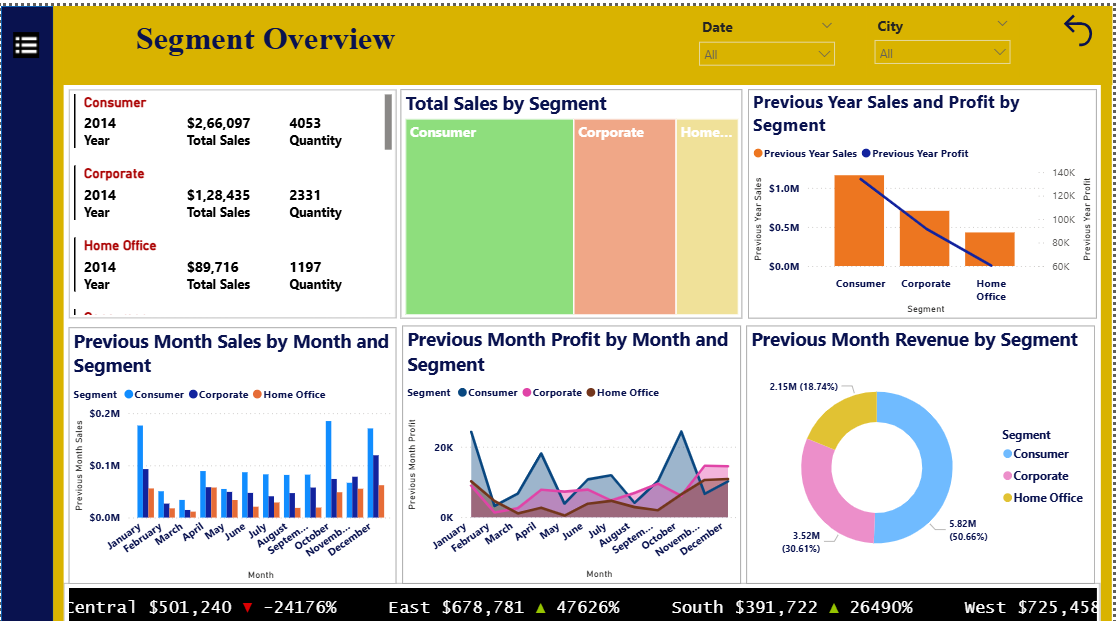

Layout of this report page (visuals, bound fields, positions):
{"tool":"powerbi","page":{"name":"Segment","canvas":[1280,720],"ordinal":1},"visuals":[{"type":"ScrollingTextVisual1448795304508","fields":{"Category":["Sales_Data.Region"],"Measure Absolute":["Sum(Sales_Data.Sales)"],"Measure Deviation":["Sum(Sales_Data.Profit/Loss)"]},"box":[72.6,664.5,1193.2,55.2],"z":1000},{"type":"shape","title":"Header","box":[60.7,0,1219.3,91],"z":2000},{"type":"actionButton","title":"Hamburger  Menu","box":[10.6,25.8,37.9,37.9],"z":2000,"group":"g1"},{"type":"shape","title":"Navyblue","box":[0,0,60.7,720],"z":3000},{"type":"shape","title":"Yello","box":[60.7,0,12.1,720],"z":4000},{"type":"textbox","box":[150.1,10.6,364,65.2],"z":7000},{"type":"areaChart","fields":{"Y":["All Measures.Previous Month Profit"],"Series":["Sales_Data.Segment"],"Category":["Calender.Date.Variation.Date Hierarchy.Month"]},"box":[462.4,367.7,389.8,296.7],"z":8000},{"type":"clusteredColumnChart","fields":{"Category":["Calender.Date.Variation.Date Hierarchy.Month"],"Y":["All Measures.Previous Month Sales"],"Series":["Sales_Data.Segment"]},"box":[77.3,369.3,377.2,295.1],"z":9000},{"type":"donutChart","fields":{"Y":["All Measures.Previous Month Revenue"],"Category":["Sales_Data.Segment"]},"box":[858.6,367.7,400.9,296.7],"z":10000},{"type":"multiRowCard","fields":{"Values":["Calender.Year","Sales_Data.Segment","All Measures.Total Sales","Sum(Sales_Data.Quantity)"]},"box":[77.3,96.3,377.2,263.6],"z":11000},{"type":"treemap","fields":{"Group":["Sales_Data.Segment"],"Values":["All Measures.Total Sales"]},"box":[460.9,96.3,393,263.6],"z":12000},{"type":"lineClusteredColumnComboChart","title":"Previous Year Sales and Profit by Segment","fields":{"Category":["Sales_Data.Segment"],"Y":["All Measures.Previous Year Sales"],"Y2":["All Measures.Previous Year Profit"]},"box":[860.2,96.3,400.9,263.6],"z":13000},{"type":"shape","box":[1265.8,90,12.6,628.2],"z":14000},{"type":"actionButton","title":"Reset","box":[1216.8,3.4,63.2,47.9],"z":15000},{"type":"slicer","fields":{"Values":["Sales_Data.City"]},"box":[996.4,6.1,175.9,75.8],"z":16000},{"type":"slicer","fields":{"Values":["Calender.Date"]},"box":[793.2,7.6,175.9,75.8],"z":16500},{"type":"group","id":"g1","title":"Menu Bar","box":[10.6,25.8,37.9,37.9],"z":16750}]}

Visuals, with their boxes in screenshot pixels (x1, y1, x2, y2), scaled from the page's 1280x720 canvas onto the 1118x621 screenshot:
ScrollingTextVisual1448795304508 - Sales_Data.Region x Sum(Sales_Data.Sales): {"x1": 63, "y1": 573, "x2": 1106, "y2": 620}
"Header" shape: {"x1": 53, "y1": 0, "x2": 1117, "y2": 78}
"Hamburger  Menu" actionButton: {"x1": 9, "y1": 22, "x2": 42, "y2": 55}
"Navyblue" shape: {"x1": 0, "y1": 0, "x2": 53, "y2": 620}
"Yello" shape: {"x1": 53, "y1": 0, "x2": 64, "y2": 620}
textbox: {"x1": 131, "y1": 9, "x2": 449, "y2": 65}
areaChart - All Measures.Previous Month Profit x Sales_Data.Segment: {"x1": 404, "y1": 317, "x2": 744, "y2": 573}
clusteredColumnChart - Calender.Date.Variation.Date Hierarchy.Month x All Measures.Previous Month Sales: {"x1": 68, "y1": 319, "x2": 397, "y2": 573}
donutChart - All Measures.Previous Month Revenue x Sales_Data.Segment: {"x1": 750, "y1": 317, "x2": 1100, "y2": 573}
multiRowCard - Calender.Year x Sales_Data.Segment: {"x1": 68, "y1": 83, "x2": 397, "y2": 310}
treemap - Sales_Data.Segment x All Measures.Total Sales: {"x1": 403, "y1": 83, "x2": 746, "y2": 310}
"Previous Year Sales and Profit by Segment" lineClusteredColumnComboChart: {"x1": 751, "y1": 83, "x2": 1101, "y2": 310}
shape: {"x1": 1106, "y1": 78, "x2": 1117, "y2": 619}
"Reset" actionButton: {"x1": 1063, "y1": 3, "x2": 1117, "y2": 44}
slicer - Sales_Data.City: {"x1": 870, "y1": 5, "x2": 1024, "y2": 71}
slicer - Calender.Date: {"x1": 693, "y1": 7, "x2": 846, "y2": 72}
"Menu Bar" group: {"x1": 9, "y1": 22, "x2": 42, "y2": 55}
